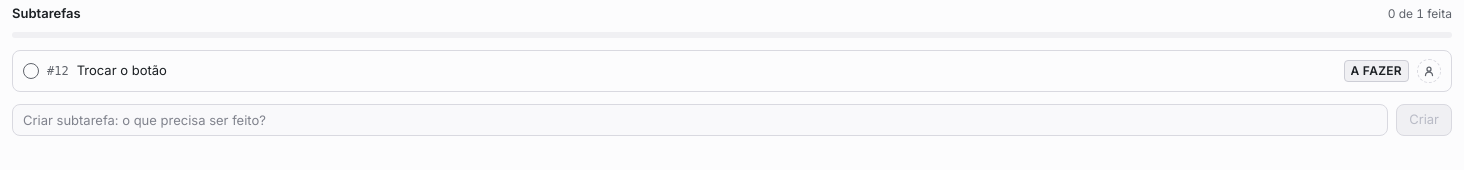
Test: as subtarefas do card aberto › marcar que falha diz o que nao foi feito, e o circulo volta a responder
The width and height of the screenshot is (1464, 170).
Click the button named "Marcar #12 como feita" at (31, 70), box [23, 62, 39, 78]
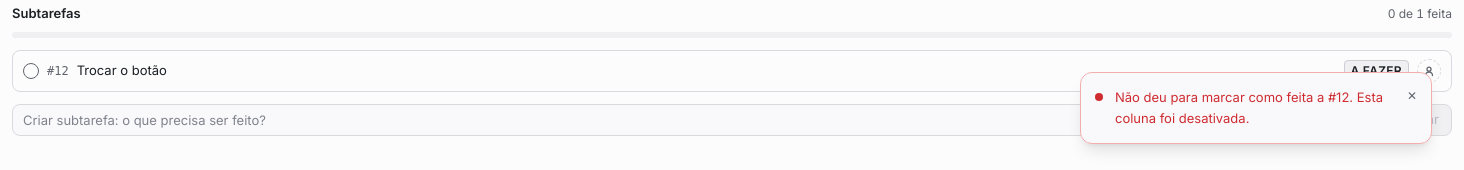
Result: the message shows "Não deu para marcar como feita a #12." at [1115, 89, 1383, 126]
